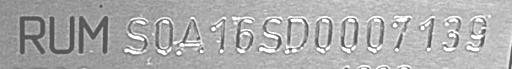letter: (74, 13, 112, 56), (46, 11, 76, 58), (120, 14, 152, 57), (16, 11, 46, 56), (176, 13, 206, 58), (388, 11, 414, 54), (258, 14, 284, 55), (362, 14, 386, 55), (284, 16, 310, 53), (312, 13, 334, 56), (466, 13, 488, 56), (152, 15, 174, 58), (440, 13, 462, 54), (338, 14, 360, 55), (208, 13, 228, 54), (234, 13, 254, 54), (416, 13, 436, 54)
